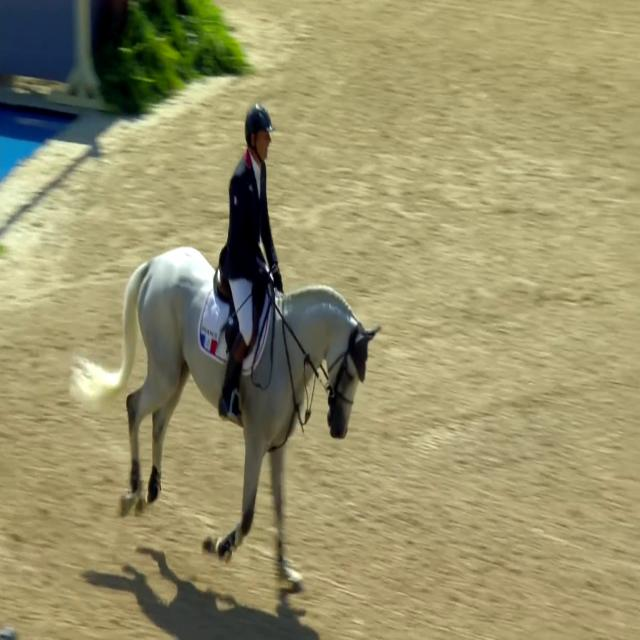Horse Rider: (215, 86, 294, 438)
Horse Running: (60, 230, 382, 598)
